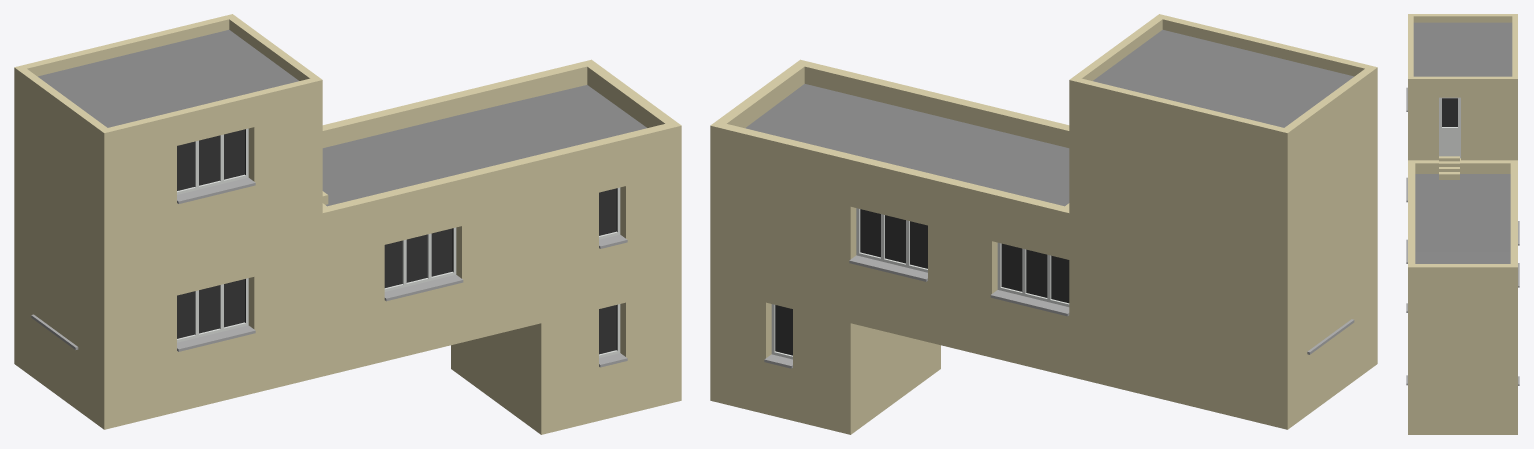
File: nadog_1.gltf
3 views of the same model, side by side, from view 1: azimuth 30°, elevation 25°; view 2: azimuth 150°, elevation 25°; view 3: azimuth 270°, elevation 25° (orthographic). The views are drawn at different scales.
Parts seen in each view (by area): view 1: nadog_1; view 2: nadog_1; view 3: nadog_1.
Boxes of the visible parts, x1,y1,x2,y2 form: nadog_1: [14, 14, 681, 434]; nadog_1: [710, 14, 1377, 434]; nadog_1: [1406, 14, 1519, 434].
Bounding box in the file's own units: 11.94 × 8.03 × 3.32.
